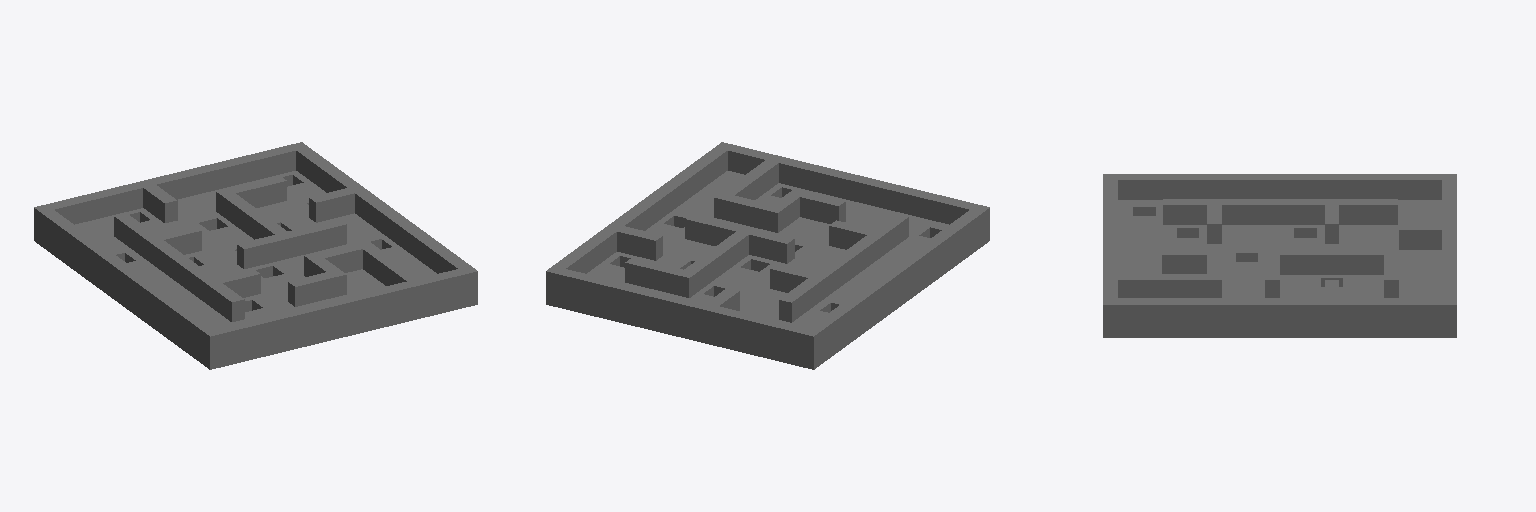
File: mazev3.obj
3 views of the same model, side by side, from view 1: azimuth 30°, elevation 25°; view 2: azimuth 150°, elevation 25°; view 3: azimuth 270°, elevation 25° (orthographic).
Visible parts, largest first — view 1: mazev3:polySurface27; view 2: mazev3:polySurface27; view 3: mazev3:polySurface27.
Part boxes in pixels (x1,y1,x2,y2): mazev3:polySurface27: (34, 142, 477, 369); mazev3:polySurface27: (546, 142, 989, 369); mazev3:polySurface27: (1103, 174, 1456, 337).
Bounding box in the file's own units: 42 × 5 × 47.88.